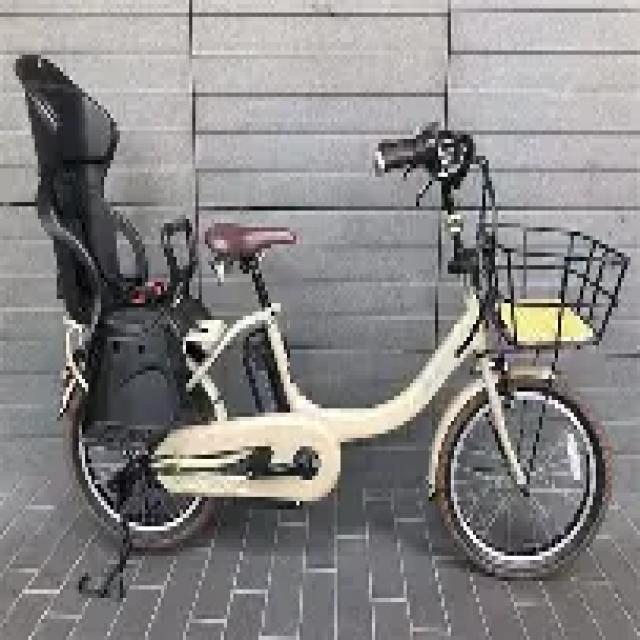basket: (474, 226, 636, 351)
battery: (241, 326, 296, 423)
childseat: (12, 46, 221, 457)
